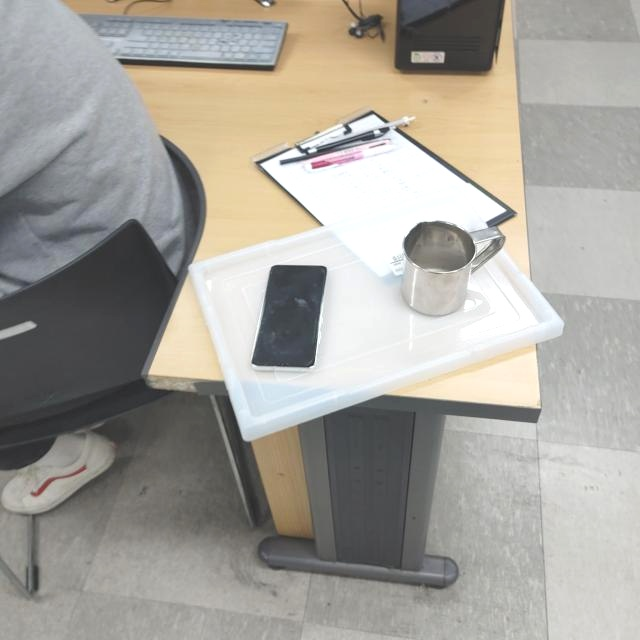cup: (399, 218, 506, 318)
phone: (248, 263, 328, 373)
